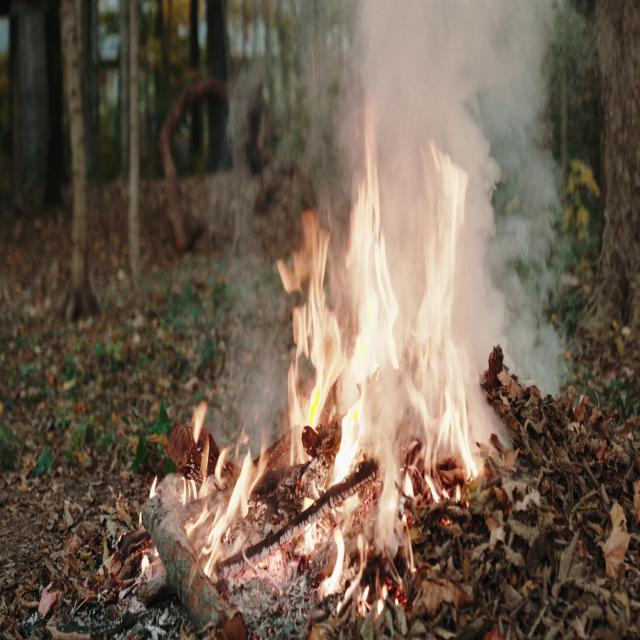Fire: (272, 126, 500, 608), (148, 395, 272, 603)
Smoke: (253, 0, 580, 225), (462, 0, 584, 410)
